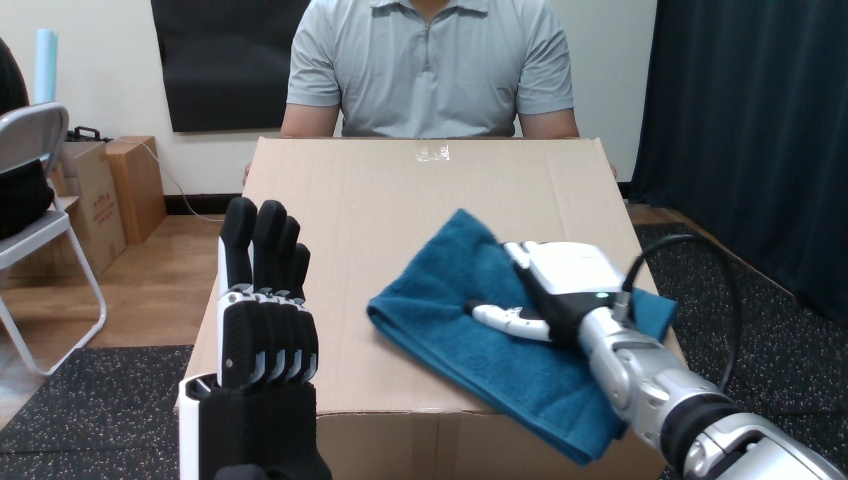left robot hand: (179, 197, 330, 478), (585, 311, 722, 473), (697, 413, 836, 478)
